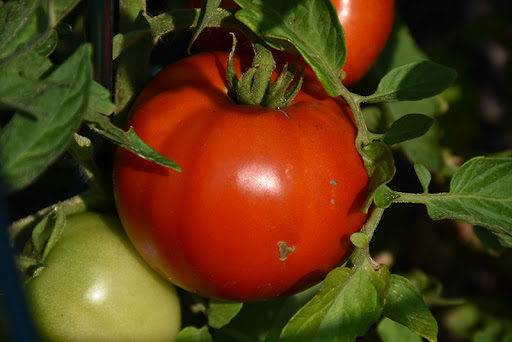rotten tomato: (127, 34, 413, 305)
